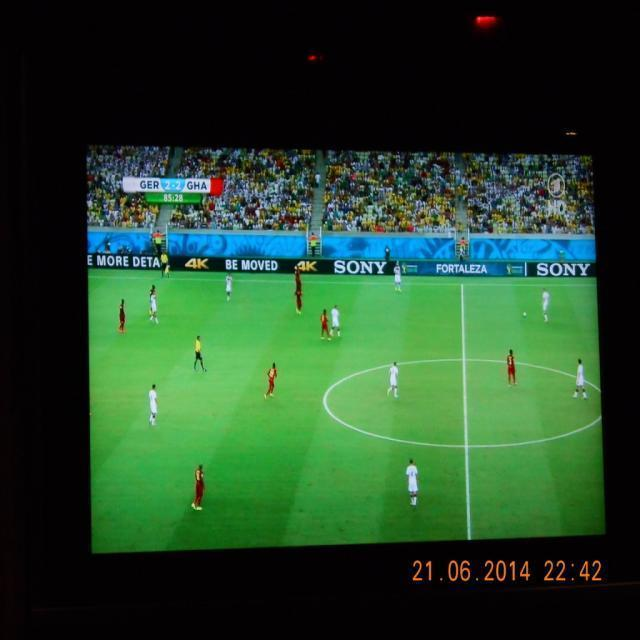ball: (523, 312, 527, 318)
